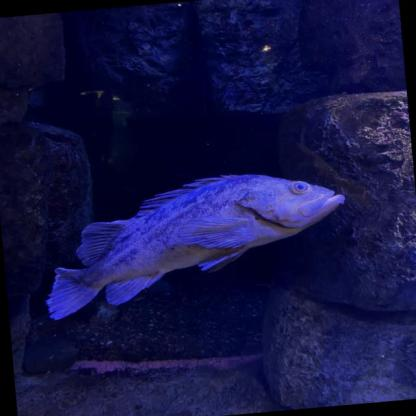fish: (27, 154, 354, 317)
